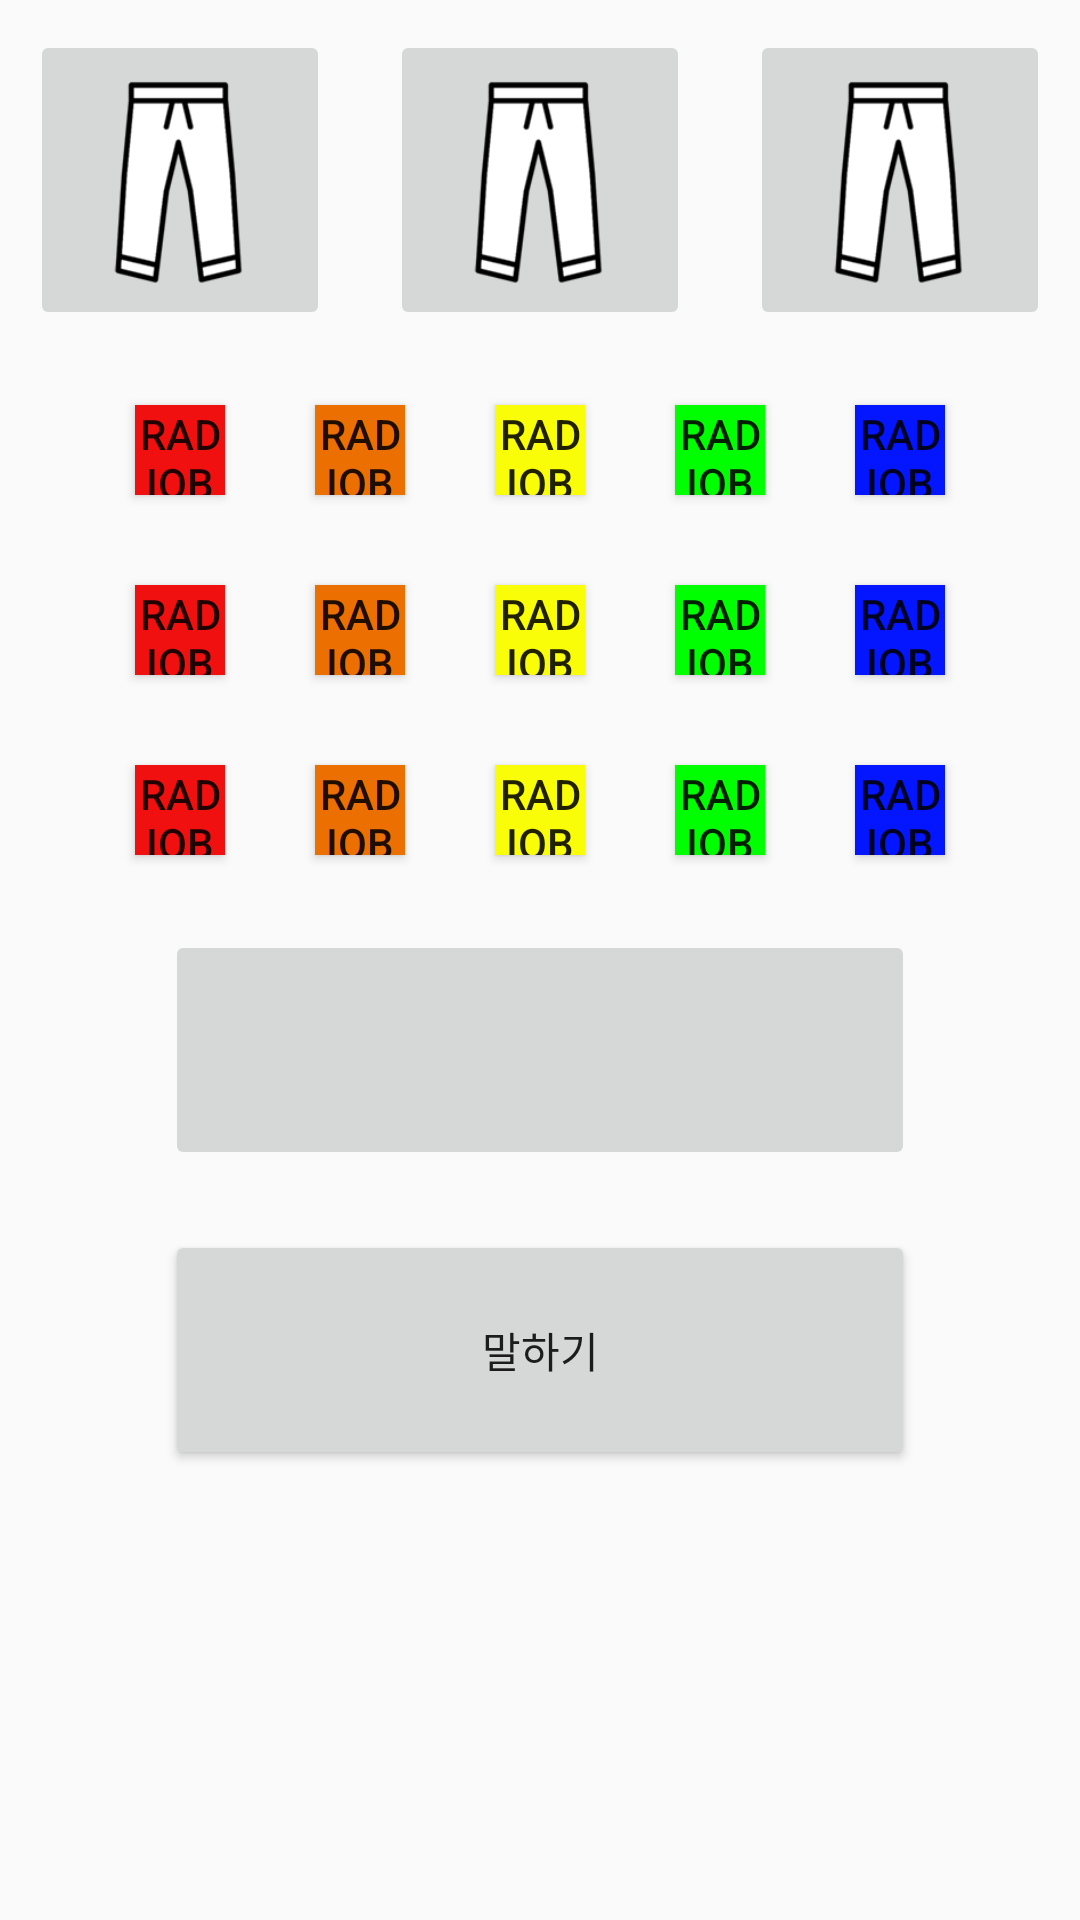

Icon bounding boxes for this 1080w x 1920h phone screenshot, format rect(x1, y1, x2, y2):
pants: rect(42, 48, 318, 312), rect(402, 48, 678, 312), rect(762, 48, 1038, 312)
